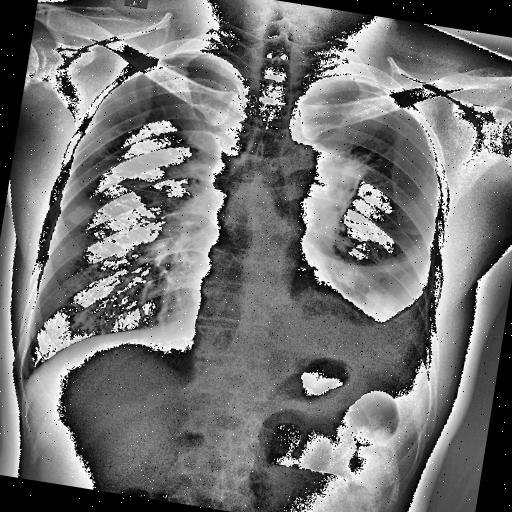10- Pleural effusion: (288, 258, 446, 406), (318, 262, 444, 366), (326, 270, 442, 374)
13- Pulmonary fibrosis: (286, 141, 364, 234), (310, 238, 426, 280), (362, 244, 428, 287)
4- Consolidation: (280, 139, 362, 241)
6- Infiltration: (302, 144, 364, 222)
7- Lung Opacity: (286, 141, 364, 234)
8- Nodule-Mass: (280, 139, 362, 241), (357, 286, 400, 320), (362, 290, 402, 322), (131, 179, 171, 209), (324, 260, 358, 286), (64, 202, 96, 228), (64, 200, 94, 226), (68, 202, 96, 228), (333, 265, 360, 288), (360, 288, 388, 310), (332, 236, 354, 254), (336, 238, 356, 256)
9- Other lesion: (286, 141, 364, 234)
